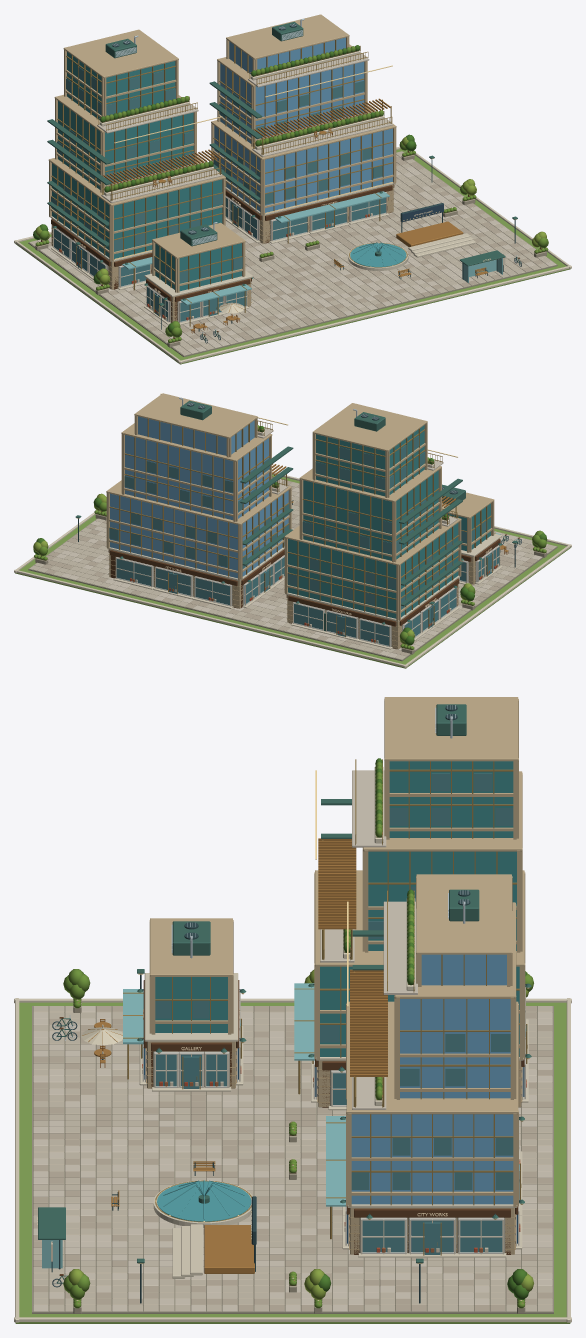
The model's file is level-6.glb.
The picture shows the model from 3 angles, top to bottom: view 1: azimuth 30°, elevation 25°; view 2: azimuth 150°, elevation 25°; view 3: azimuth 270°, elevation 25°; orthographic projection. The views are drawn at different scales.
Parts seen in each view (by area): view 1: finance_level_6_geometry; view 2: finance_level_6_geometry; view 3: finance_level_6_geometry.
Part boxes in pixels (x1,y1,x2,y2): finance_level_6_geometry: (14, 14, 571, 364); finance_level_6_geometry: (14, 393, 571, 668); finance_level_6_geometry: (14, 697, 571, 1323).
Bounding box in the file's own units: 60 × 31.1 × 44.
